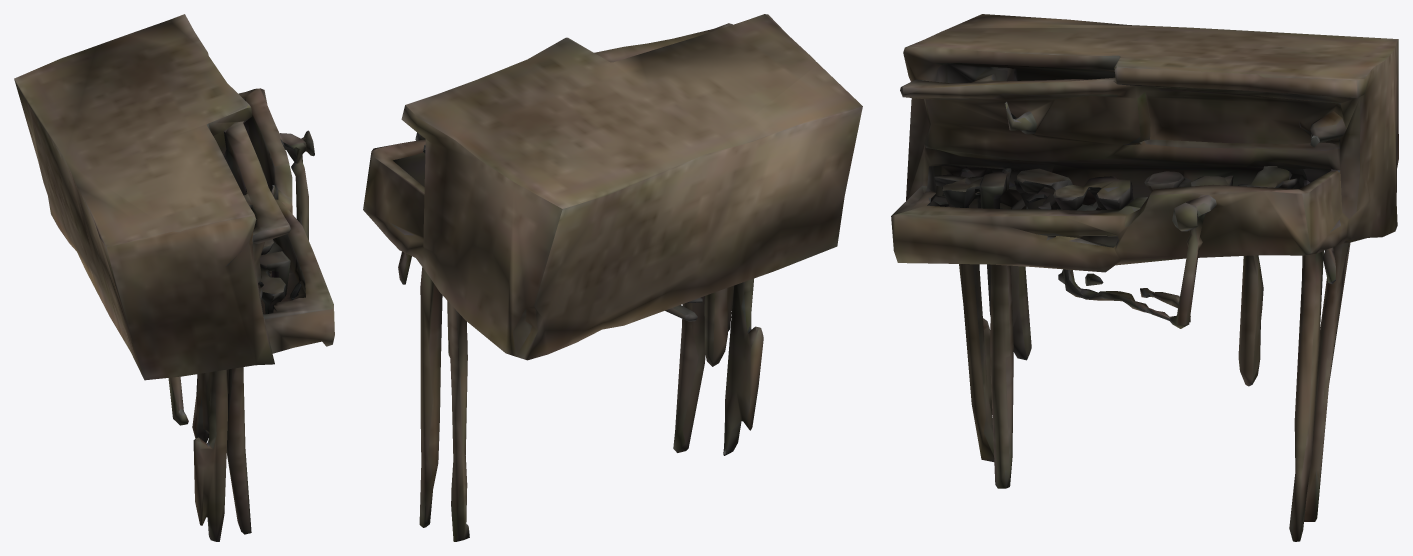
The model's file is sturdy-wood-desk-v002.glb.
3 renders of one model, left to right at view 1: azimuth 30°, elevation 25°; view 2: azimuth 150°, elevation 25°; view 3: azimuth 270°, elevation 25°, orthographic. The views are drawn at different scales.
Visible parts, largest first — view 1: sturdy-wood-desk; view 2: sturdy-wood-desk; view 3: sturdy-wood-desk.
Boxes of the visible parts, x1,y1,x2,y2 form: sturdy-wood-desk: (14, 14, 334, 541); sturdy-wood-desk: (363, 14, 862, 541); sturdy-wood-desk: (891, 14, 1398, 541).
Size of the model in its own units: 0.6215 by 0.7777 by 0.781.
Materials: 1 (1 with a texture image).
